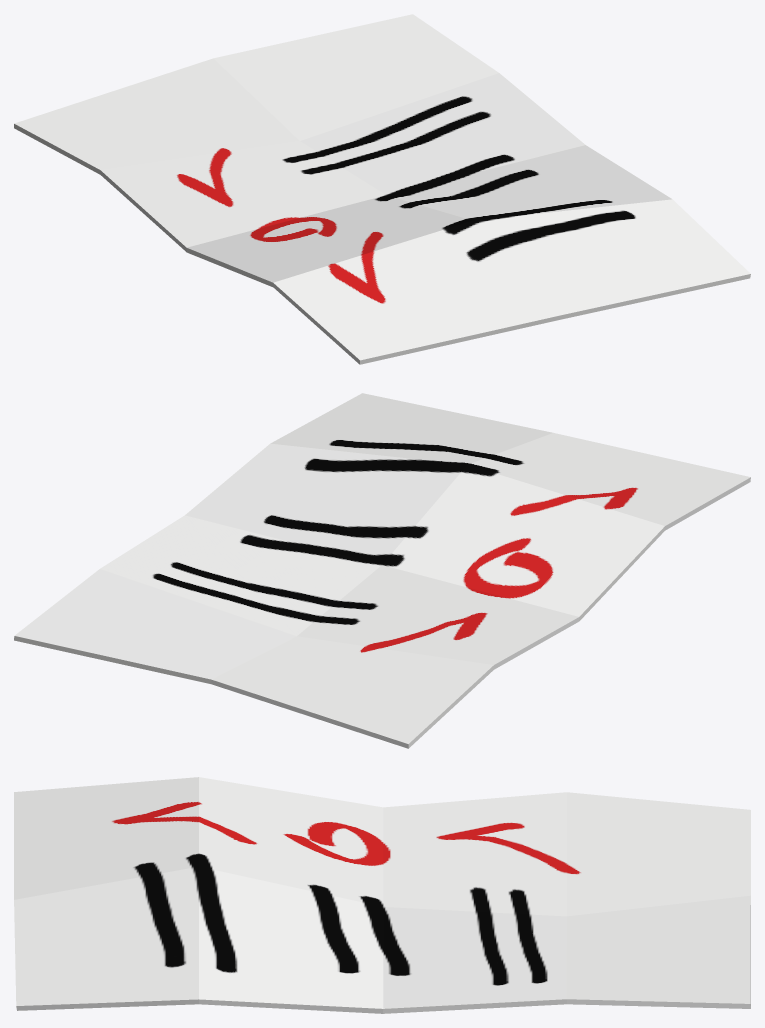
File: examPaper.fbx
3 renders of one model, top to bottom at view 1: azimuth 30°, elevation 25°; view 2: azimuth 150°, elevation 25°; view 3: azimuth 270°, elevation 25°, orthographic. The views are drawn at different scales.
Visible parts, largest first — view 1: examPaper; view 2: examPaper; view 3: examPaper.
Part boxes in pixels (left/top/right/bottom): examPaper: left=14, top=14, right=750, bottom=364; examPaper: left=14, top=393, right=750, bottom=748; examPaper: left=14, top=777, right=750, bottom=1013.
Size of the model in its own units: 267 by 31.12 by 400.
1 material, 1 textured.
